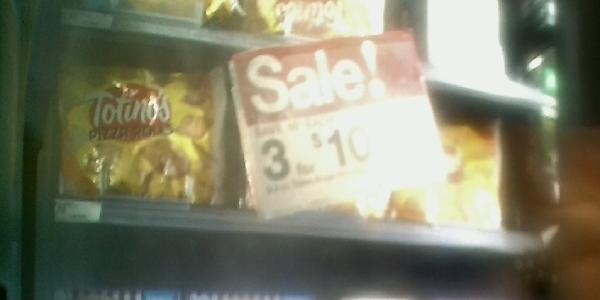icecream: (58, 55, 235, 210), (243, 49, 390, 218), (388, 89, 519, 232)
